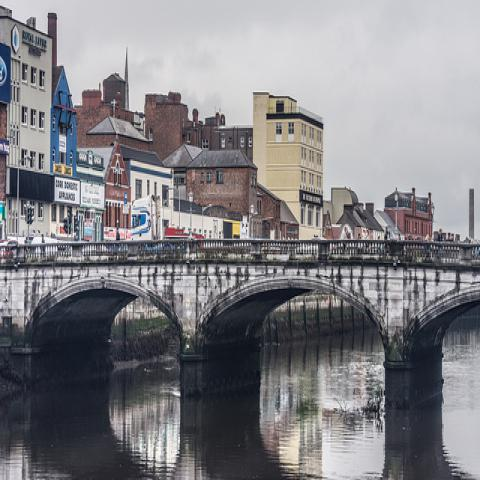car: (1, 240, 19, 244)
truck: (131, 205, 152, 241)
